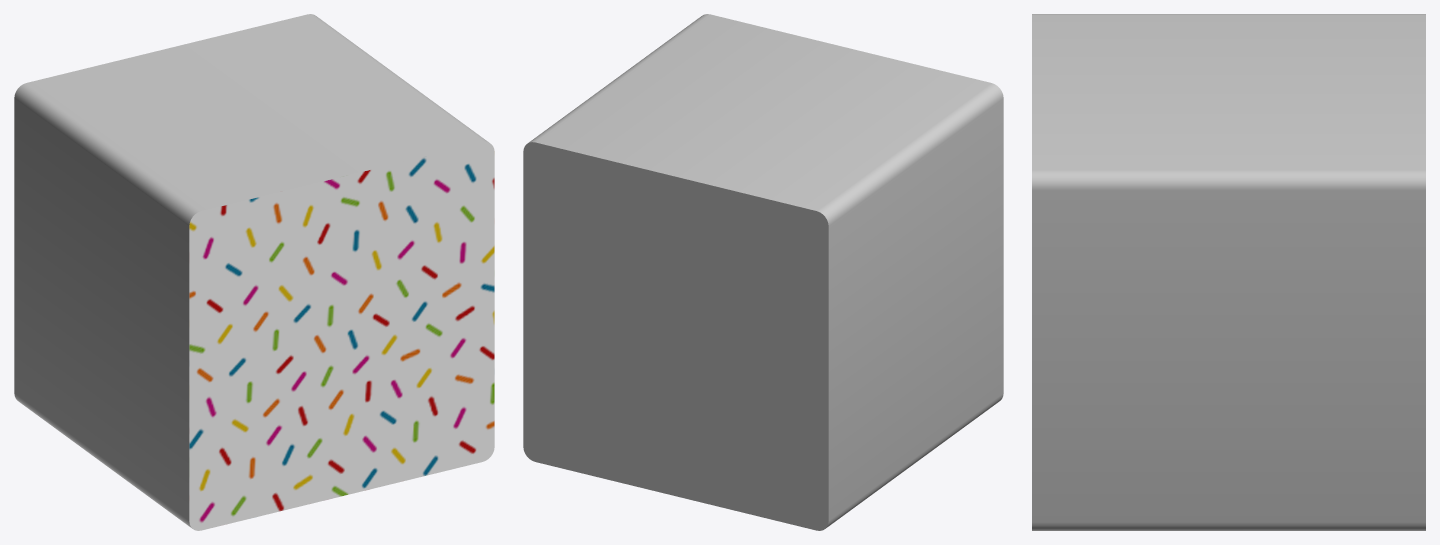
File: Cake.dae
3 views of the same model, side by side, from view 1: azimuth 30°, elevation 25°; view 2: azimuth 150°, elevation 25°; view 3: azimuth 270°, elevation 25° (orthographic). The views are drawn at different scales.
Visible parts, largest first — view 1: Rounded_Rectangle_1; view 2: Rounded_Rectangle_1; view 3: Rounded_Rectangle_1.
Part boxes in pixels (x1=…): Rounded_Rectangle_1: x1=14, y1=14, x2=494, y2=530; Rounded_Rectangle_1: x1=523, y1=14, x2=1003, y2=530; Rounded_Rectangle_1: x1=1032, y1=14, x2=1425, y2=530.
Size of the model in its own units: 90.66 by 90.66 by 90.
